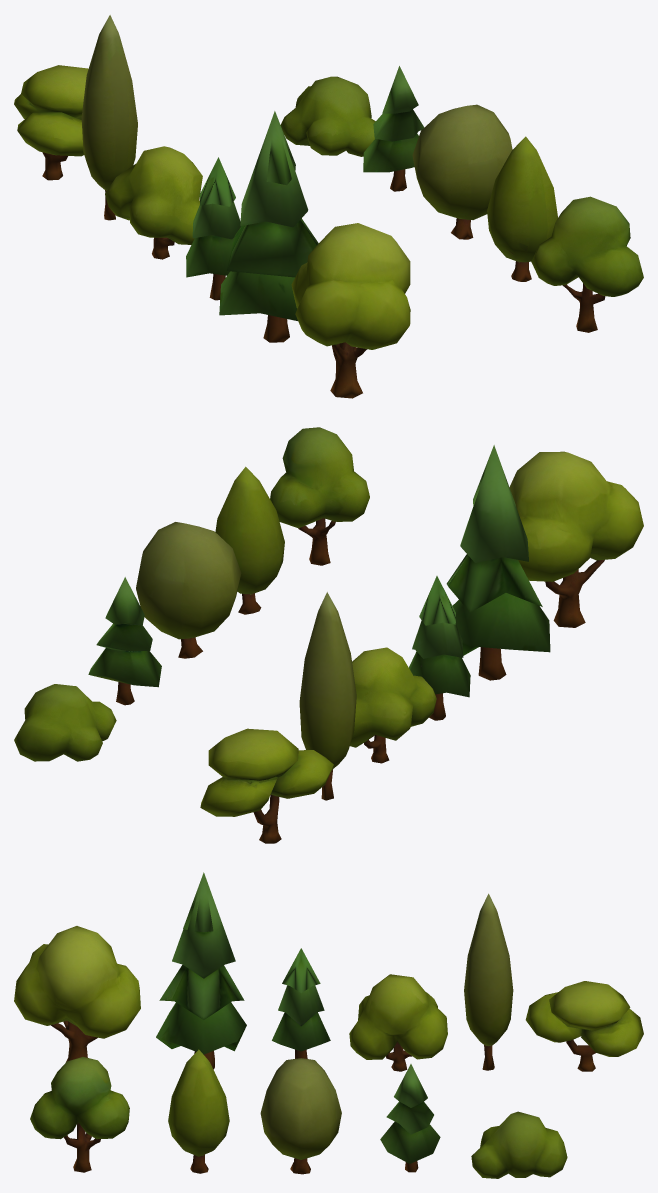
The model's file is Trees.fbx.
3 renders of one model, top to bottom at view 1: azimuth 30°, elevation 25°; view 2: azimuth 150°, elevation 25°; view 3: azimuth 270°, elevation 25°, orthographic. The views are drawn at different scales.
Parts seen in each view (by area): view 1: Oak1, Pin1, Tree3, Oak4, Oak2, Tree1, Tree2, Oak3, Bush1, Pin2, Pin3; view 2: Oak1, Pin1, Tree3, Oak3, Oak4, Tree1, Oak2, Tree2, Bush1, Pin2, Pin3; view 3: Oak1, Pin1, Oak3, Oak2, Tree3, Oak4, Tree1, Tree2, Bush1, Pin2, Pin3.
Part boxes in pixels (box(x1,y1,x2,y2)): Oak1: box(291, 223, 410, 398); Pin1: box(219, 111, 318, 342); Tree3: box(412, 104, 512, 239); Oak4: box(531, 196, 643, 332); Oak2: box(105, 146, 202, 259); Tree1: box(81, 15, 137, 220); Tree2: box(487, 136, 557, 281); Oak3: box(14, 65, 88, 180); Bush1: box(280, 76, 375, 156); Pin2: box(186, 157, 241, 300); Pin3: box(363, 66, 424, 191); Oak1: box(509, 451, 643, 627); Pin1: box(446, 445, 550, 680); Tree3: box(136, 522, 241, 658); Oak3: box(200, 728, 333, 843); Oak4: box(270, 427, 369, 565); Tree1: box(299, 592, 356, 800); Oak2: box(350, 647, 436, 763); Tree2: box(215, 466, 284, 614); Bush1: box(14, 684, 116, 761); Pin2: box(409, 576, 470, 720); Pin3: box(88, 577, 161, 705); Oak1: box(14, 926, 140, 1061); Pin1: box(156, 872, 246, 1069); Oak3: box(525, 981, 643, 1071); Oak2: box(349, 974, 447, 1071); Tree3: box(260, 1058, 341, 1174); Oak4: box(30, 1057, 129, 1172); Tree1: box(464, 893, 513, 1070); Tree2: box(168, 1049, 229, 1173); Bush1: box(471, 1111, 567, 1178); Pin2: box(272, 948, 330, 1058); Pin3: box(380, 1064, 440, 1172).
Size of the model in its own units: 3.88 by 2.42 by 6.99.
